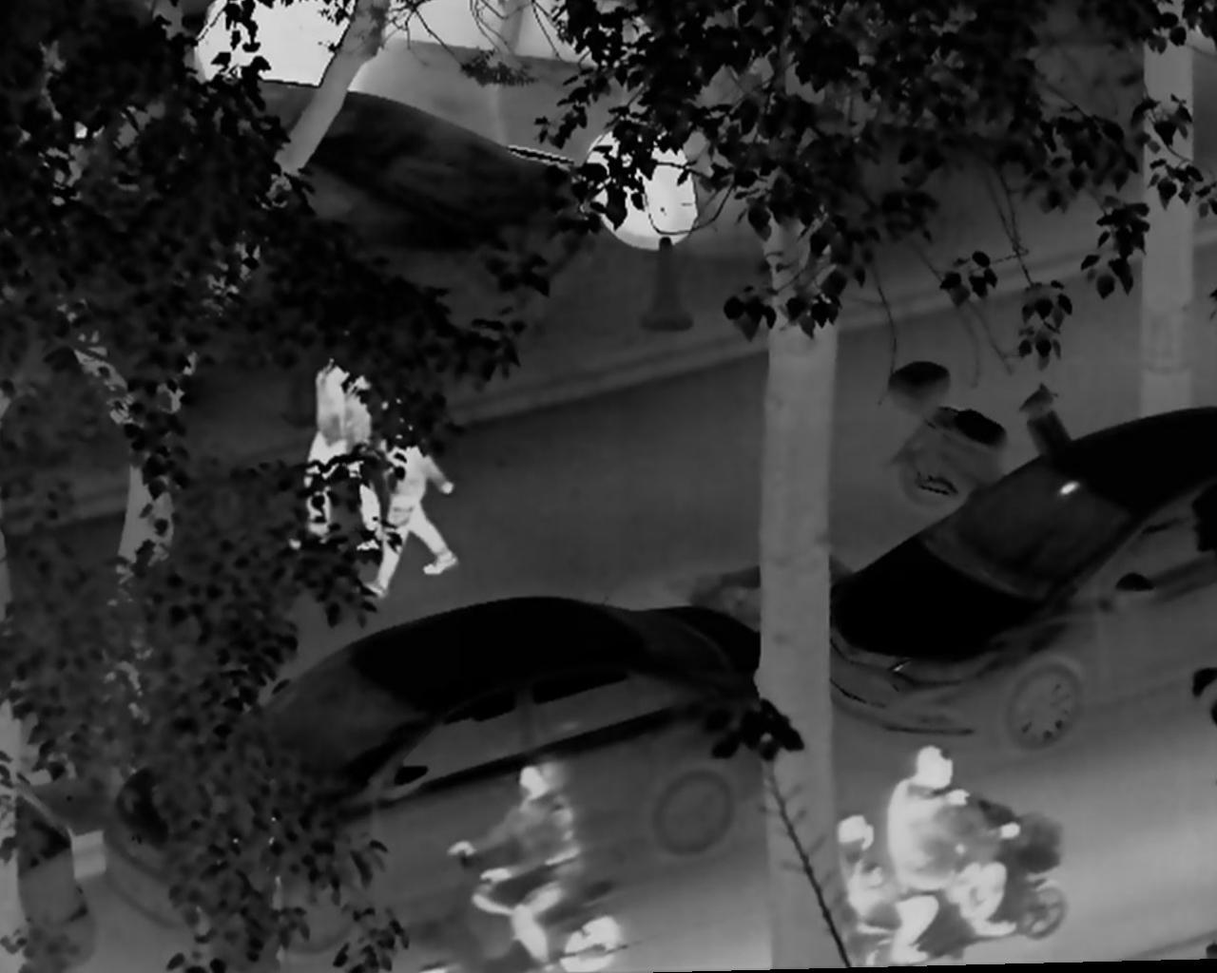person: (447, 746, 583, 966), (886, 728, 1021, 944), (350, 378, 468, 606), (284, 341, 395, 563), (823, 808, 941, 967)
